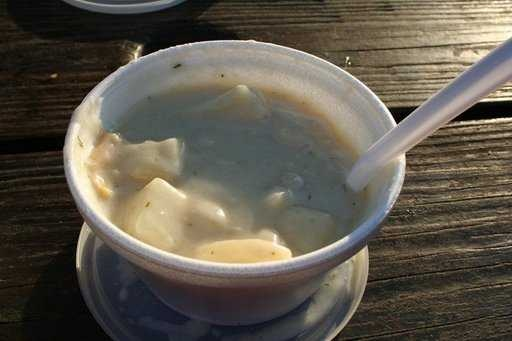soup: (88, 77, 381, 257)
